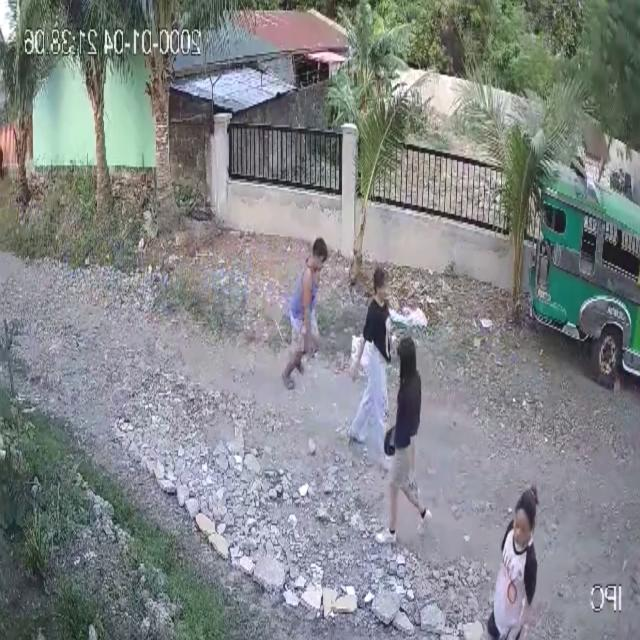running: (278, 235, 329, 394)
walking: (370, 332, 435, 550), (346, 263, 400, 473), (482, 482, 542, 640)
